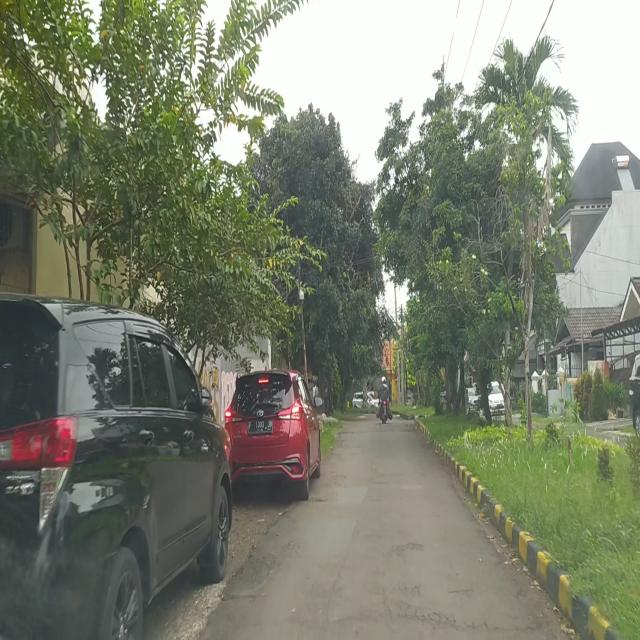Drain Hole: (374, 584, 461, 628)
